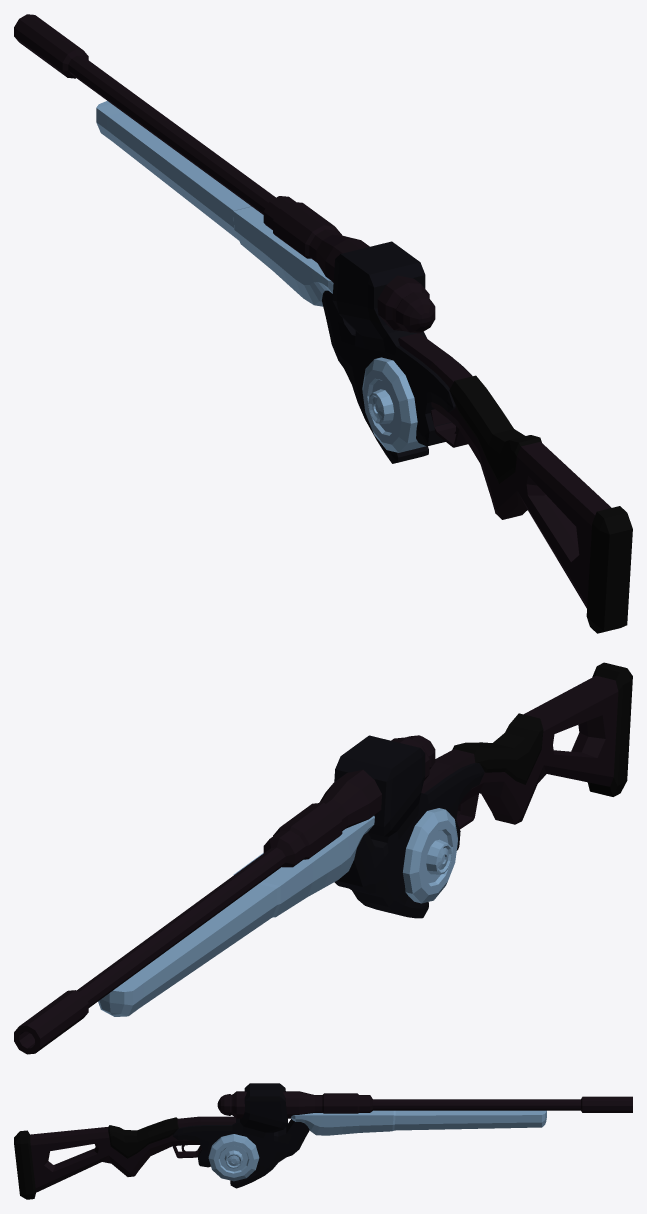
The model's file is Sniper rifle.obj.
3 views of the same model, one above another, from view 1: azimuth 30°, elevation 25°; view 2: azimuth 150°, elevation 25°; view 3: azimuth 270°, elevation 25° (orthographic). The views are drawn at different scales.
Visible parts, largest first — view 1: SniperRifle_Cube; view 2: SniperRifle_Cube; view 3: SniperRifle_Cube.
Part boxes in pixels (x1,y1,x2,y2): SniperRifle_Cube: [14, 14, 632, 633]; SniperRifle_Cube: [14, 662, 632, 1054]; SniperRifle_Cube: [14, 1083, 632, 1199].
Size of the model in its own units: 0.7699 by 2.2 by 11.53.
